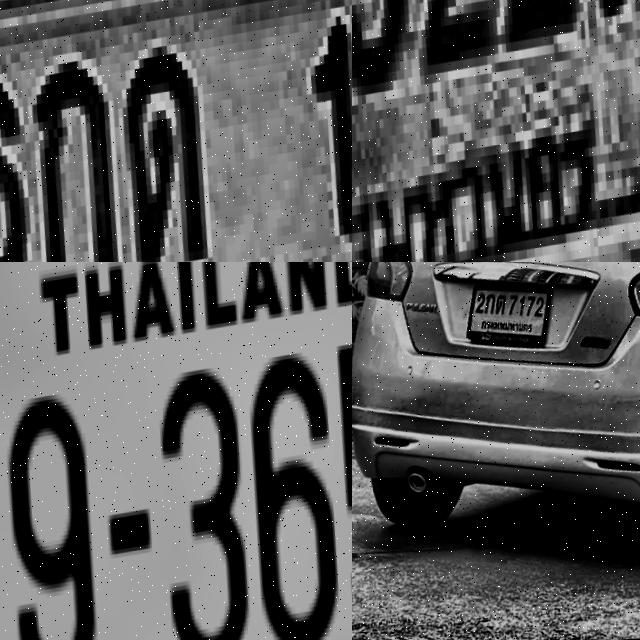license-plate: (0, 262, 352, 640), (0, 0, 352, 262), (352, 0, 640, 262), (461, 266, 560, 361)
